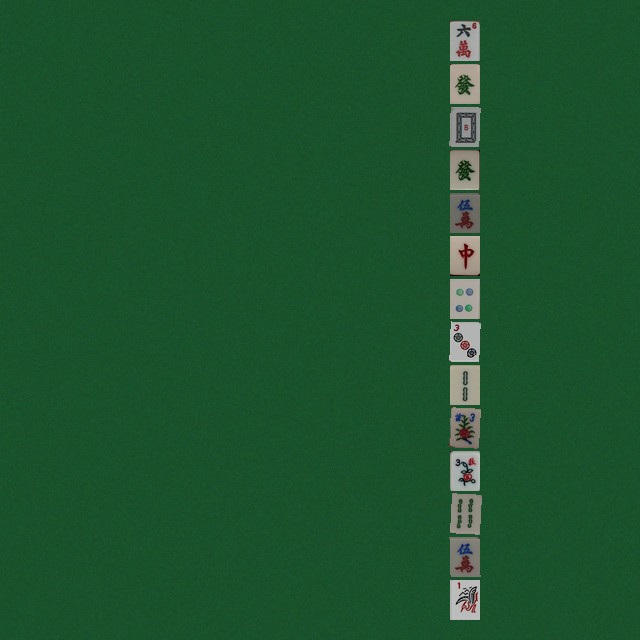tile: (449, 20, 479, 60), (449, 63, 479, 103), (449, 106, 479, 146), (449, 149, 479, 189), (449, 192, 479, 232), (449, 235, 479, 275), (449, 278, 479, 318), (449, 321, 479, 361), (449, 364, 479, 404), (449, 407, 479, 447), (449, 450, 479, 490), (449, 493, 479, 533), (449, 536, 479, 576), (449, 579, 479, 619)
